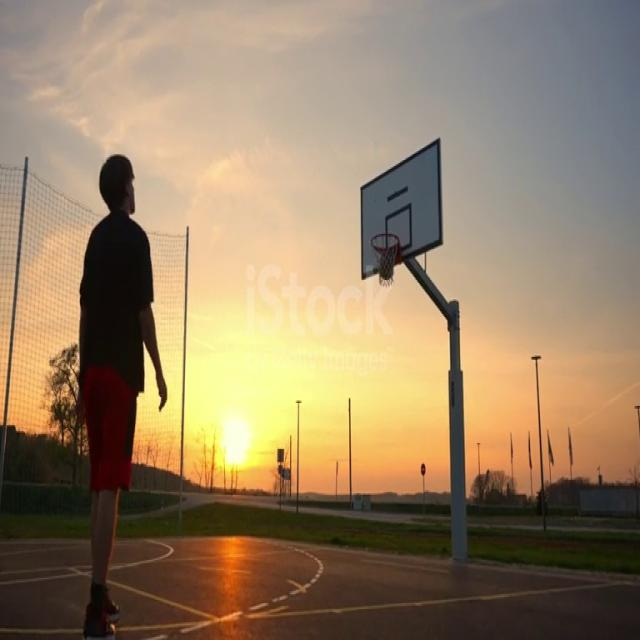ball: (377, 248, 396, 286)
